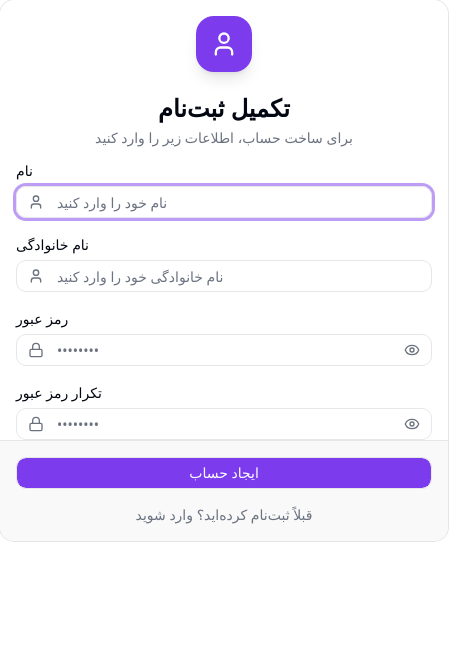
Test: CompleteRegistrationForm › shows validation errors for empty submit
Click the button "ایجاد حساب".
click(224, 473)  # box [16,457,432,489]
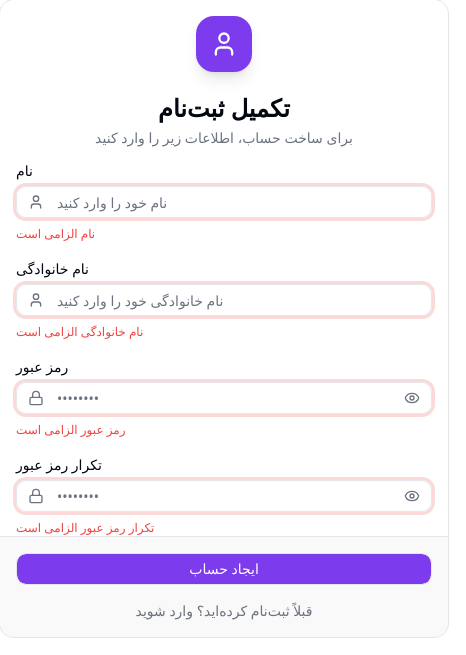
Now the text "نام الزامی است" is shown, box [16,225,95,242]
Now the text "نام خانوادگی الزامی است" is shown, box [16,323,143,340]
Now the text "رمز عبور الزامی است" is shown, box [16,421,126,438]
